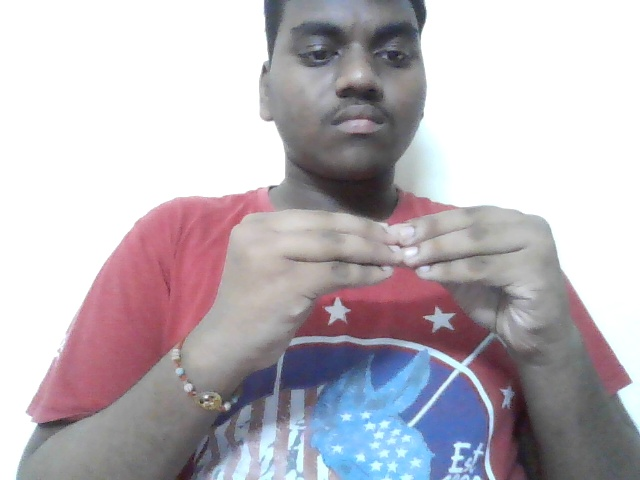More: (210, 196, 598, 400)
